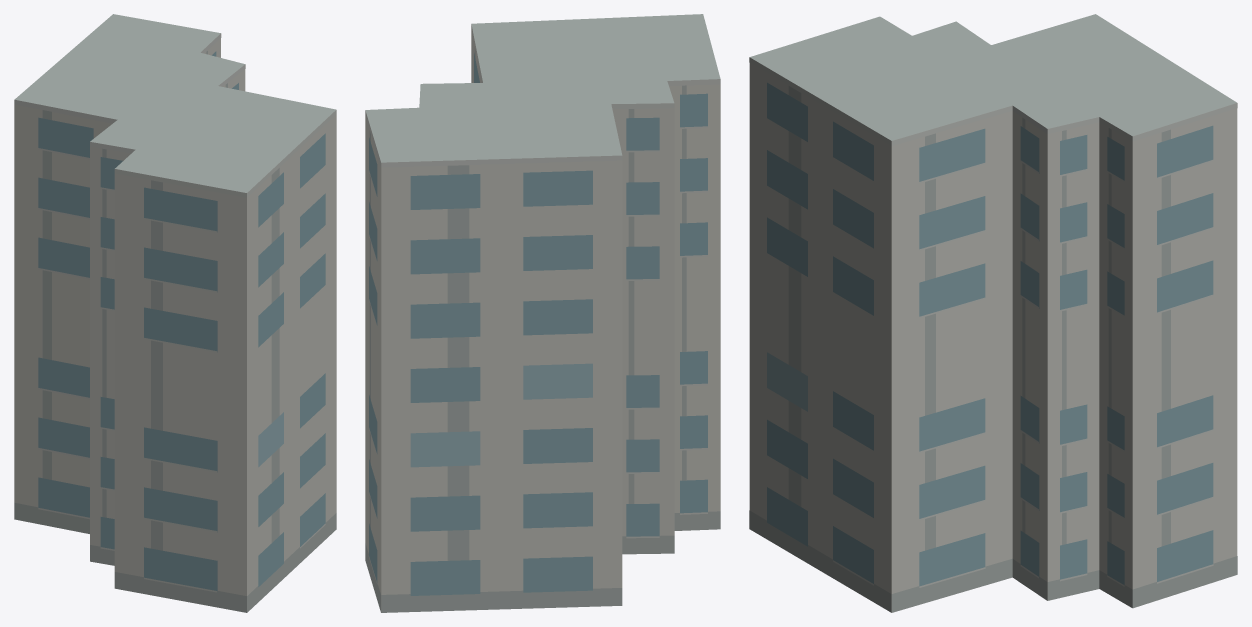
Rendered from survey-upis-32646582.glb.
3 renders of one model, left to right at view 1: azimuth 30°, elevation 25°; view 2: azimuth 150°, elevation 25°; view 3: azimuth 270°, elevation 25°, orthographic. The views are drawn at different scales.
Parts seen in each view (by area): view 1: survey-upis-32646582.tmp; view 2: survey-upis-32646582.tmp; view 3: survey-upis-32646582.tmp.
Part boxes in pixels (bbox=[...]): survey-upis-32646582.tmp: bbox=[14, 14, 336, 612]; survey-upis-32646582.tmp: bbox=[365, 14, 720, 612]; survey-upis-32646582.tmp: bbox=[749, 14, 1237, 612].
Bounding box in the file's own units: 12.33 × 21.35 × 20.01.
